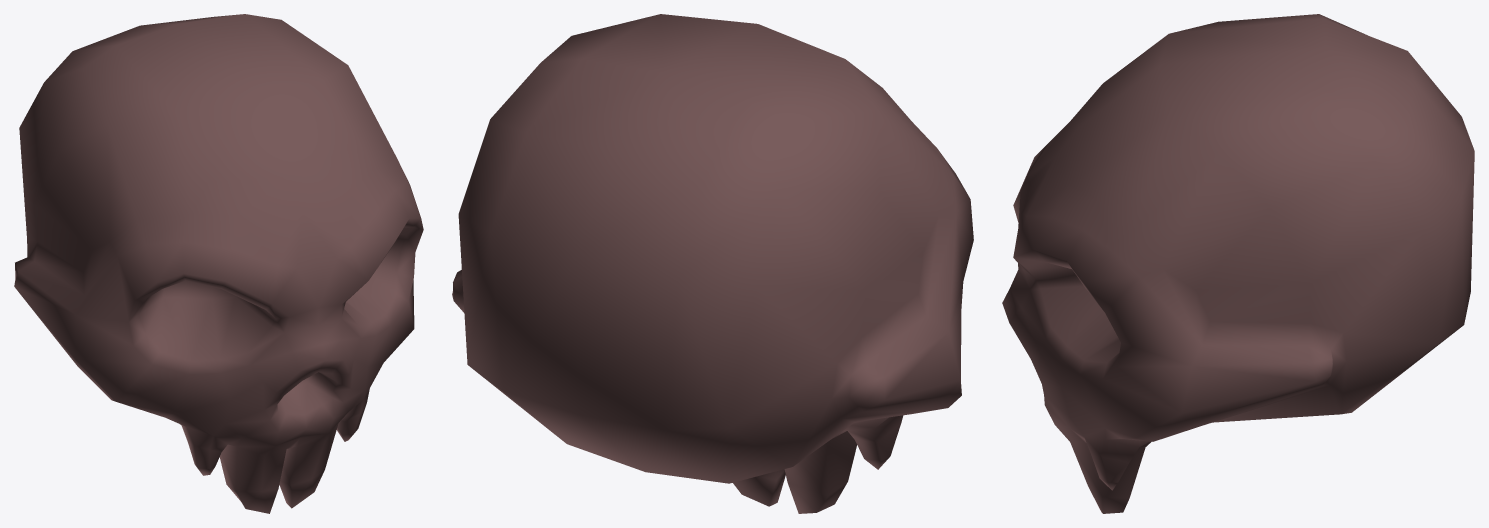
The model's file is SM_HumanSkeletonSkull.FBX.
The picture shows the model from 3 angles, left to right: view 1: azimuth 30°, elevation 25°; view 2: azimuth 150°, elevation 25°; view 3: azimuth 270°, elevation 25°; orthographic projection. The views are drawn at different scales.
Parts seen in each view (by area): view 1: SM_HumanSkeletonSkull; view 2: SM_HumanSkeletonSkull; view 3: SM_HumanSkeletonSkull.
Boxes of the visible parts, x1,y1,x2,y2 form: SM_HumanSkeletonSkull: (14,14,423,513); SM_HumanSkeletonSkull: (452,14,973,513); SM_HumanSkeletonSkull: (1002,14,1474,513).
Size of the model in its own units: 45.86 by 53.39 by 49.81.
